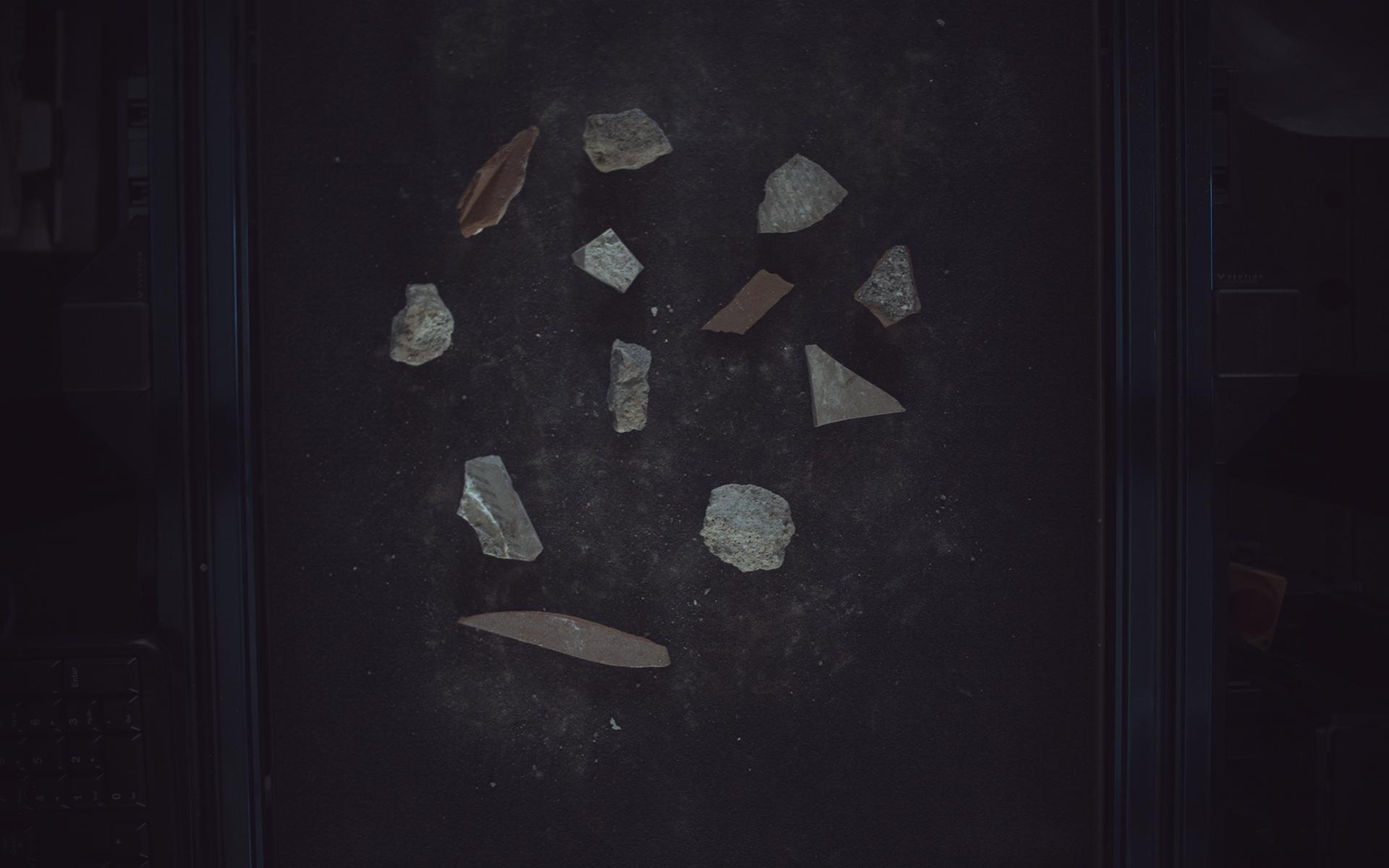brick: (459, 612, 671, 669), (457, 125, 540, 237), (703, 268, 795, 334), (856, 244, 923, 327)
concrete: (702, 485, 797, 572), (584, 107, 674, 171), (390, 283, 454, 366), (608, 339, 653, 433)
tile: (458, 456, 543, 562), (807, 344, 906, 427), (758, 153, 849, 232), (572, 228, 645, 292)
